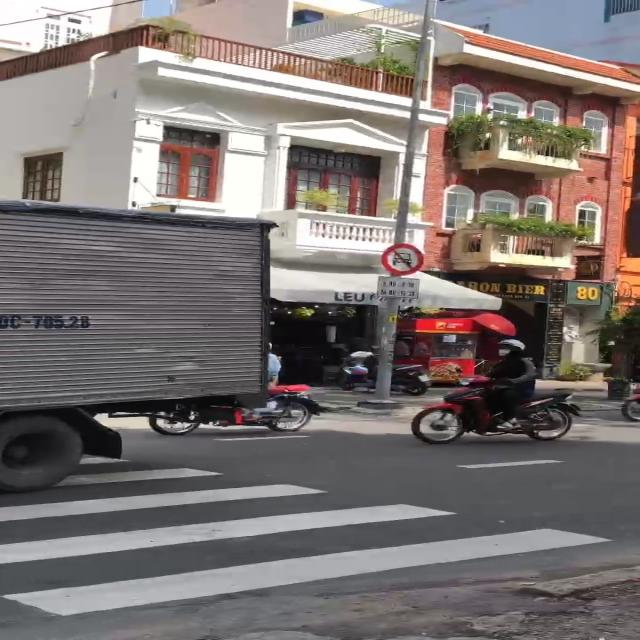Bien bao cam xe oto: (380, 240, 431, 278)
